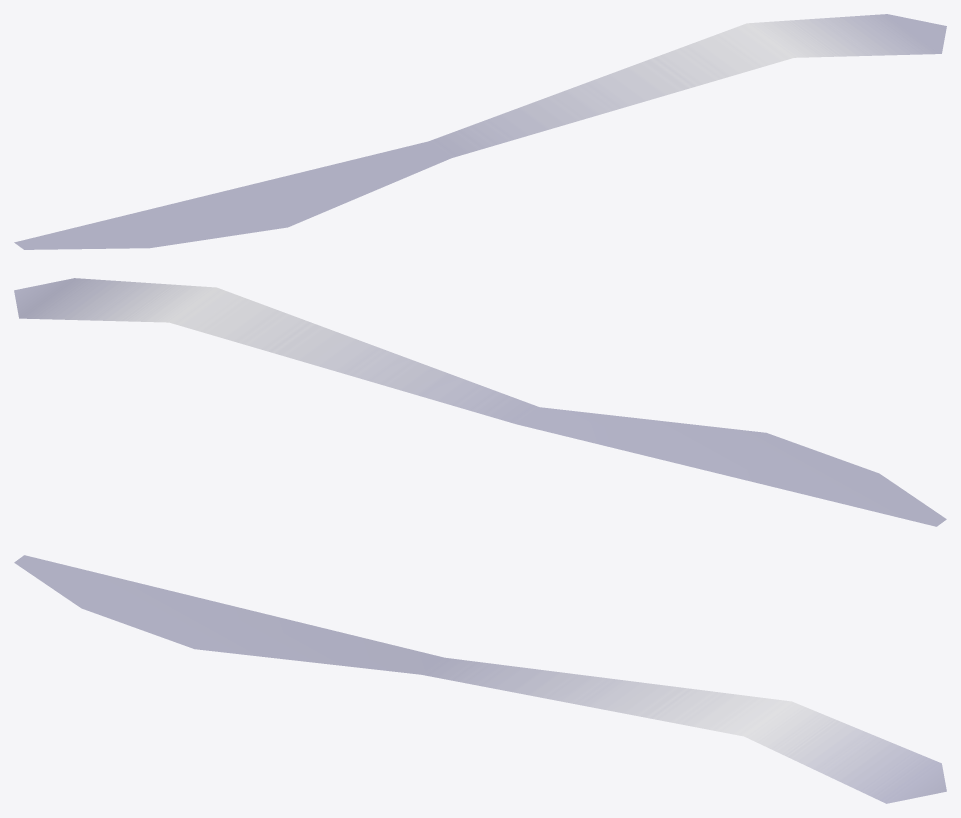
The model's file is cc0-utensil-knife-lod0.glb.
3 views of the same model, one above another, from view 1: azimuth 30°, elevation 25°; view 2: azimuth 150°, elevation 25°; view 3: azimuth 330°, elevation 25° (orthographic).
Parts seen in each view (by area): view 1: part_0; view 2: part_0; view 3: part_0.
Part boxes in pixels (box(x1,y1,x2,y2)): part_0: box(14, 14, 946, 249); part_0: box(14, 278, 946, 526); part_0: box(14, 555, 946, 803).
Size of the model in its own units: 0.6008 by 0.0178 by 0.0778.
Materials: 1 (1 with a texture image).
